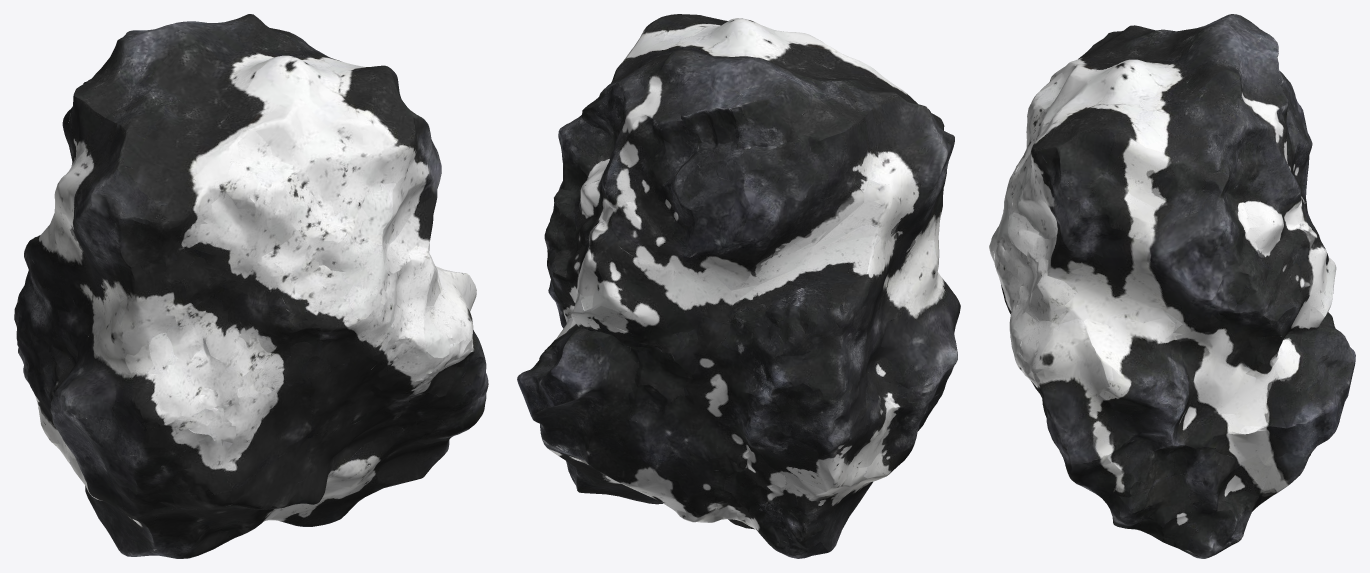
The model's file is et_silverore.glb.
The picture shows the model from 3 angles, left to right: view 1: azimuth 30°, elevation 25°; view 2: azimuth 150°, elevation 25°; view 3: azimuth 270°, elevation 25°; orthographic projection. The views are drawn at different scales.
Size of the model in its own units: 1.61 by 1.9 by 1.37.
1 material, 1 textured.
